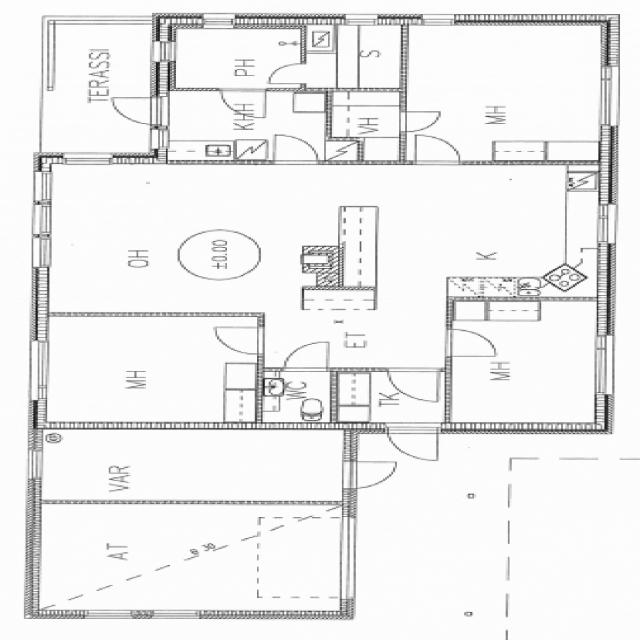door: (380, 366, 445, 405), (384, 425, 443, 463), (440, 324, 500, 361), (278, 338, 334, 374), (208, 323, 266, 357), (409, 132, 464, 166), (106, 95, 162, 126), (344, 458, 400, 489), (268, 133, 320, 164), (216, 88, 265, 119), (393, 108, 446, 134), (263, 60, 310, 86)
window: (333, 511, 364, 604), (21, 334, 56, 406), (588, 333, 619, 398), (592, 64, 620, 130), (590, 201, 620, 249), (27, 202, 56, 239), (29, 170, 56, 207), (27, 234, 53, 271), (23, 446, 47, 483), (58, 151, 117, 166), (145, 609, 205, 621), (79, 609, 136, 621), (152, 39, 177, 64), (198, 14, 238, 28), (415, 14, 459, 26), (339, 13, 381, 25), (149, 127, 166, 151)
zone: (40, 166, 596, 312), (36, 503, 352, 615), (406, 25, 608, 162), (32, 429, 352, 505), (43, 315, 260, 423), (447, 299, 608, 433), (159, 90, 324, 161), (166, 26, 305, 88), (310, 22, 405, 92), (332, 371, 453, 422), (258, 370, 332, 424), (326, 91, 403, 140), (438, 325, 502, 360), (342, 458, 400, 490), (220, 88, 264, 119)
